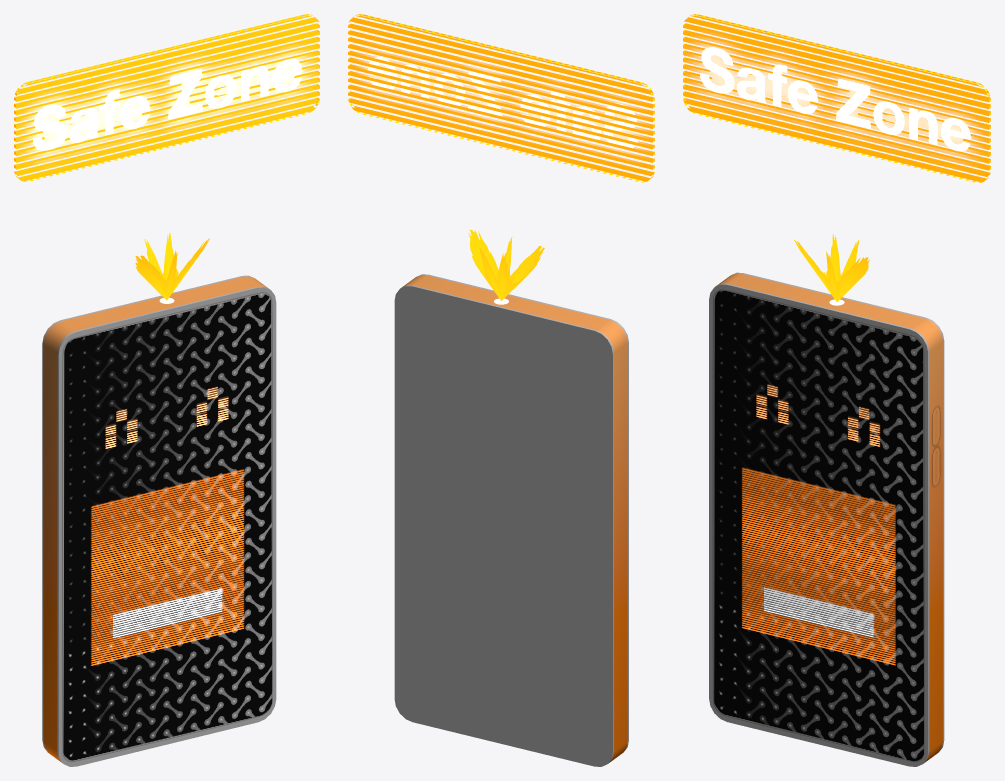
Rendered from Orange_SafeZone_Phone_Smart_V1.fbx.
The picture shows the model from 3 angles, left to right: view 1: azimuth 30°, elevation 25°; view 2: azimuth 150°, elevation 25°; view 3: azimuth 330°, elevation 25°; orthographic projection.
Parts seen in each view (by area): view 1: _Texto__Phone, Sign, Light; view 2: _Texto__Phone, Sign, Light; view 3: _Texto__Phone, Sign, Light.
Boxes of the visible parts, x1,y1,x2,y2 form: _Texto__Phone: [42, 275, 276, 766]; Sign: [14, 14, 319, 181]; Light: [135, 233, 209, 300]; _Texto__Phone: [394, 274, 628, 766]; Sign: [348, 14, 654, 182]; Light: [468, 229, 544, 300]; _Texto__Phone: [709, 272, 944, 766]; Sign: [683, 14, 990, 182]; Light: [794, 234, 869, 301].
Size of the model in its own units: 87.69 by 189 by 25.87.
Materials: 2 (2 with a texture image).
